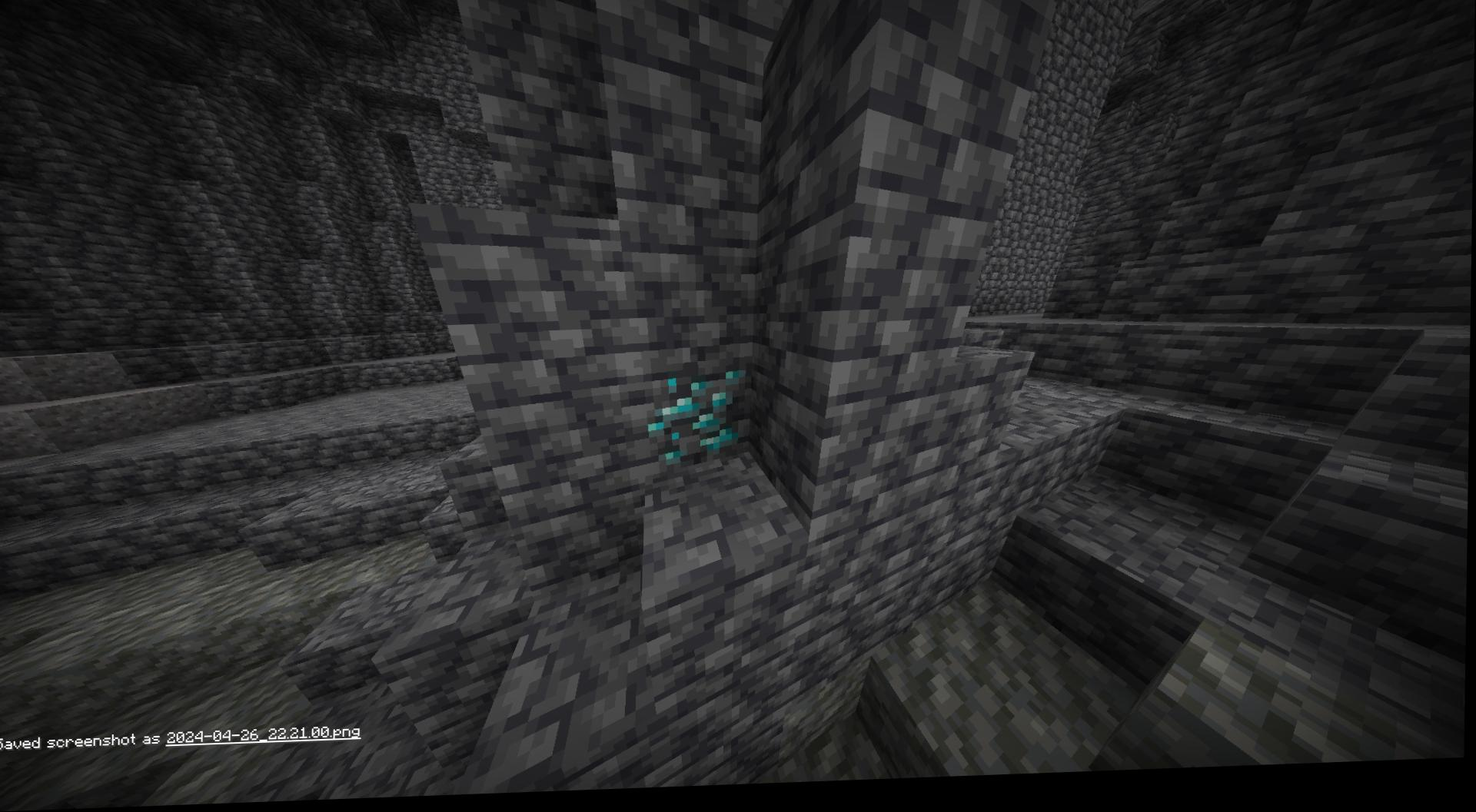diamond ore: (642, 372, 750, 469)
